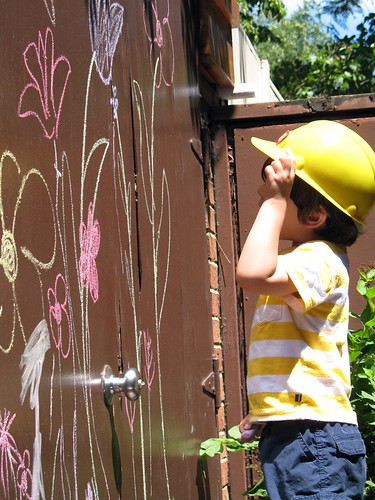person hardhat: (231, 120, 375, 500)
